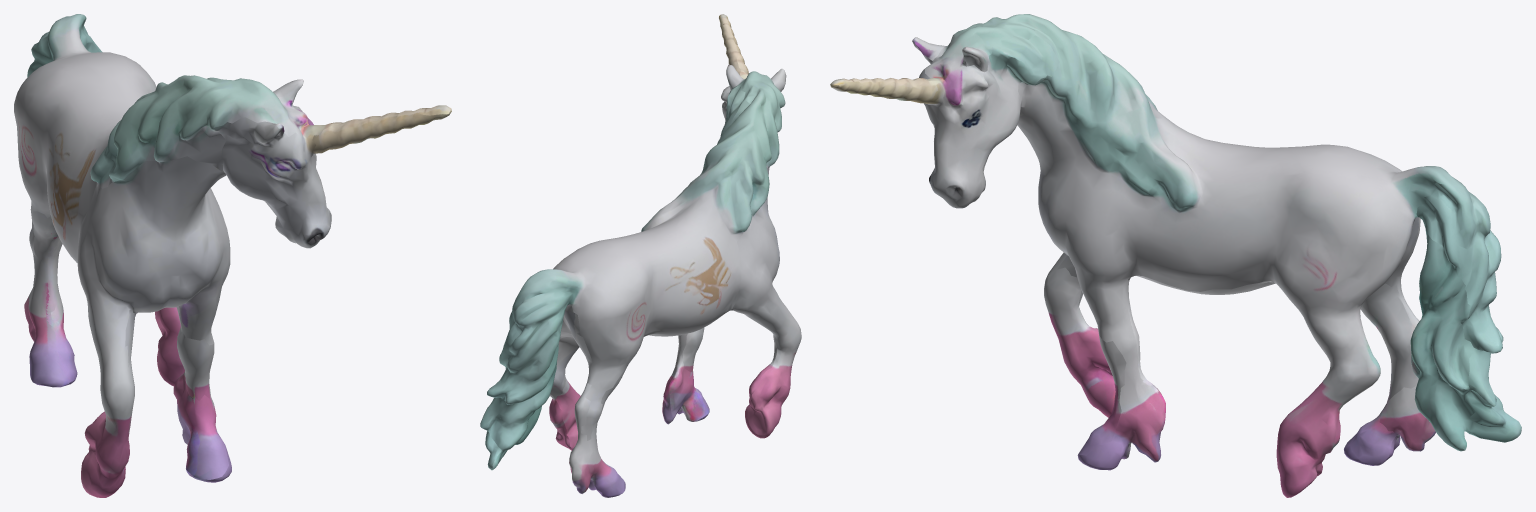
Rendered from mvadapter.glb.
The picture shows the model from 3 angles, left to right: view 1: azimuth 30°, elevation 25°; view 2: azimuth 150°, elevation 25°; view 3: azimuth 270°, elevation 25°; orthographic projection. The views are drawn at different scales.
Visible parts, largest first — view 1: mvadapter_node_texture_mesh_c125a50ed937113d; view 2: mvadapter_node_texture_mesh_c125a50ed937113d; view 3: mvadapter_node_texture_mesh_c125a50ed937113d.
Part boxes in pixels (left/top/right/bottom): mvadapter_node_texture_mesh_c125a50ed937113d: left=14, top=14, right=451, bottom=497; mvadapter_node_texture_mesh_c125a50ed937113d: left=480, top=14, right=801, bottom=497; mvadapter_node_texture_mesh_c125a50ed937113d: left=830, top=14, right=1521, bottom=497.
Bounding box in the file's own units: 0.1656 × 0.3081 × 0.4486.
1 material, 1 textured.
